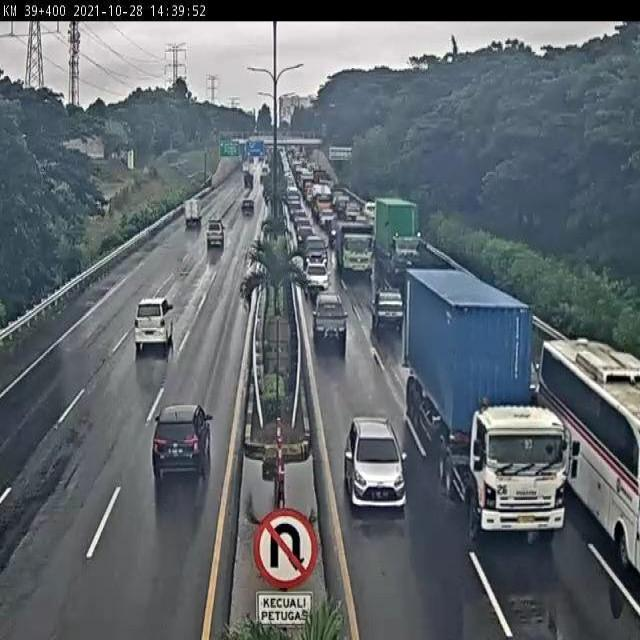car: (344, 417, 405, 511), (151, 406, 212, 478), (134, 296, 177, 347), (502, 339, 535, 396), (311, 288, 344, 335), (368, 285, 403, 328), (302, 232, 327, 263), (304, 259, 329, 285), (205, 221, 223, 248), (295, 226, 314, 246)
truck: (406, 270, 569, 534), (536, 332, 640, 568), (374, 199, 416, 268), (334, 219, 371, 272), (182, 198, 203, 230)
